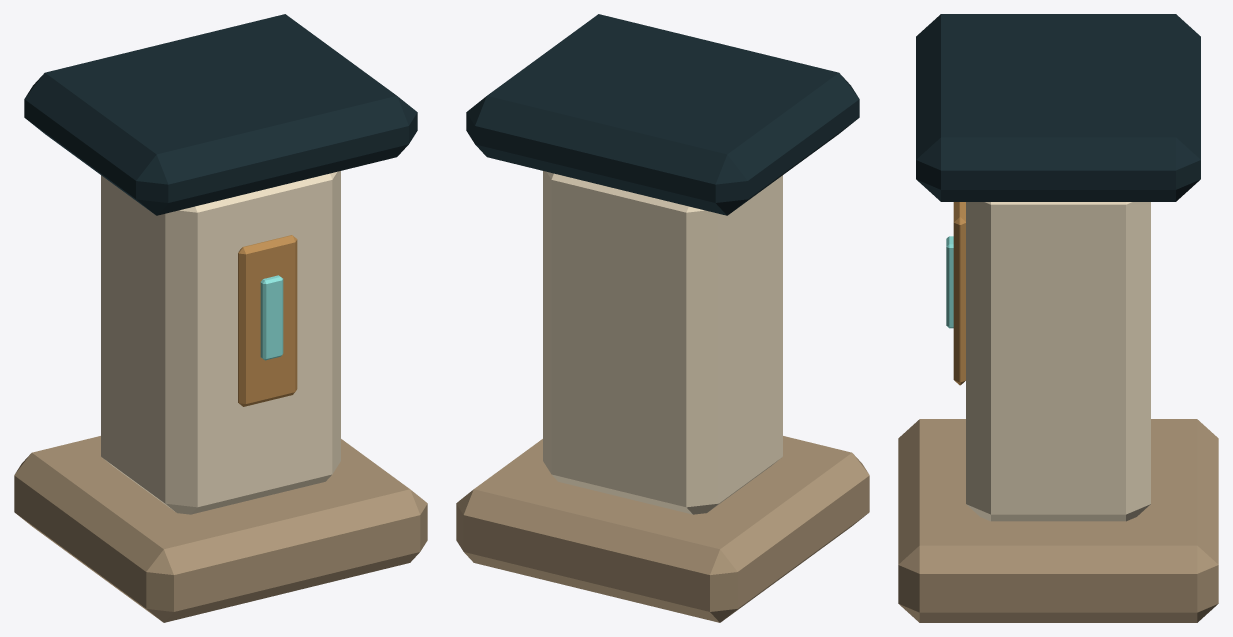
The model's file is Prop_Waystone.fbx.
The picture shows the model from 3 angles, left to right: view 1: azimuth 30°, elevation 25°; view 2: azimuth 150°, elevation 25°; view 3: azimuth 270°, elevation 25°; orthographic projection. The views are drawn at different scales.
Visible parts, largest first — view 1: Prop_Waystone; view 2: Prop_Waystone; view 3: Prop_Waystone.
Part boxes in pixels (x1,y1,x2,y2): Prop_Waystone: (14,14,427,622); Prop_Waystone: (456,14,869,622); Prop_Waystone: (898,14,1218,622).
Bounding box in the file's own units: 0.48 × 0.75 × 0.45.
